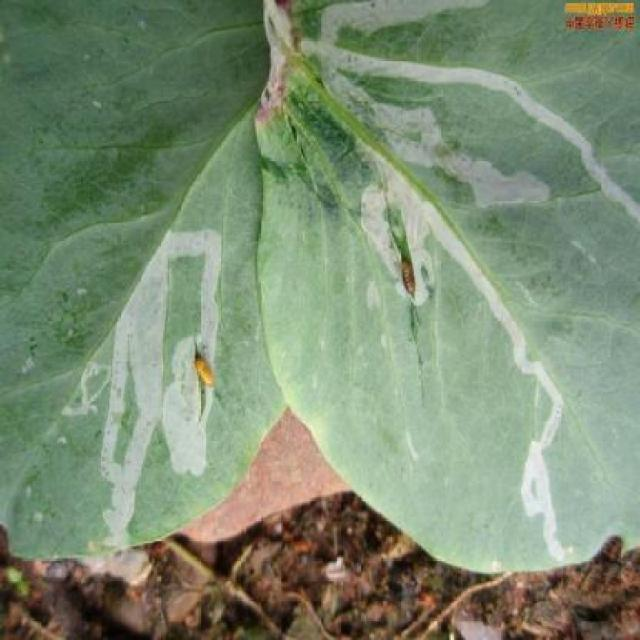whorl-maggot: (182, 342, 227, 403), (390, 246, 427, 314)
